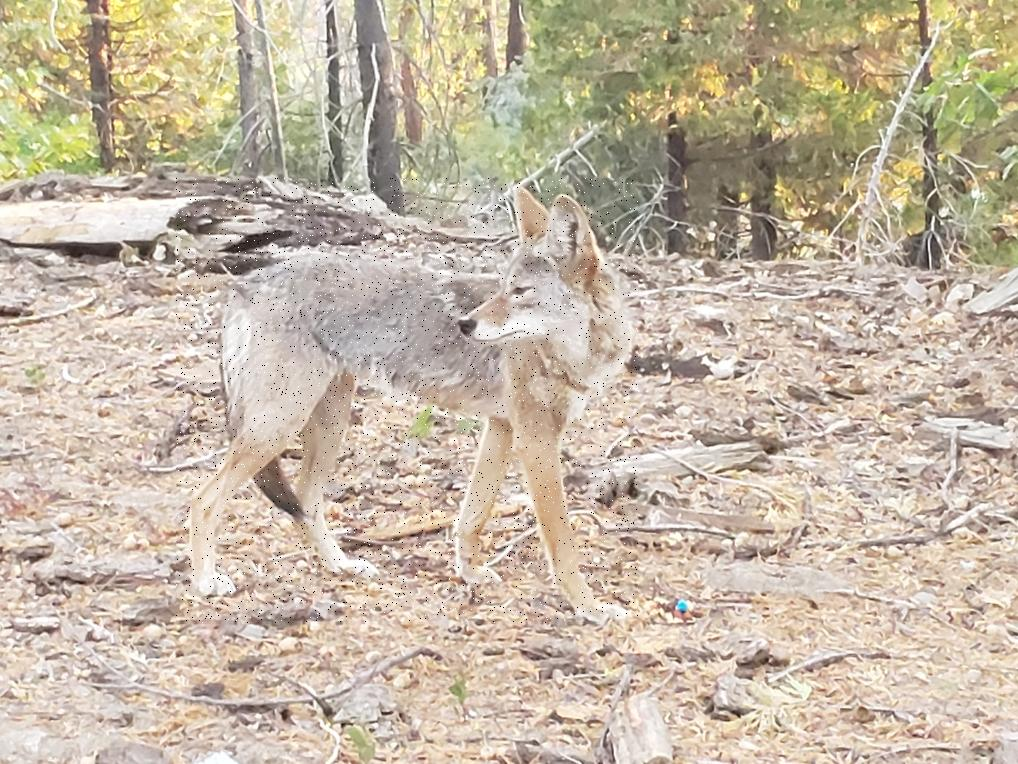Coyote: (176, 179, 638, 624)
